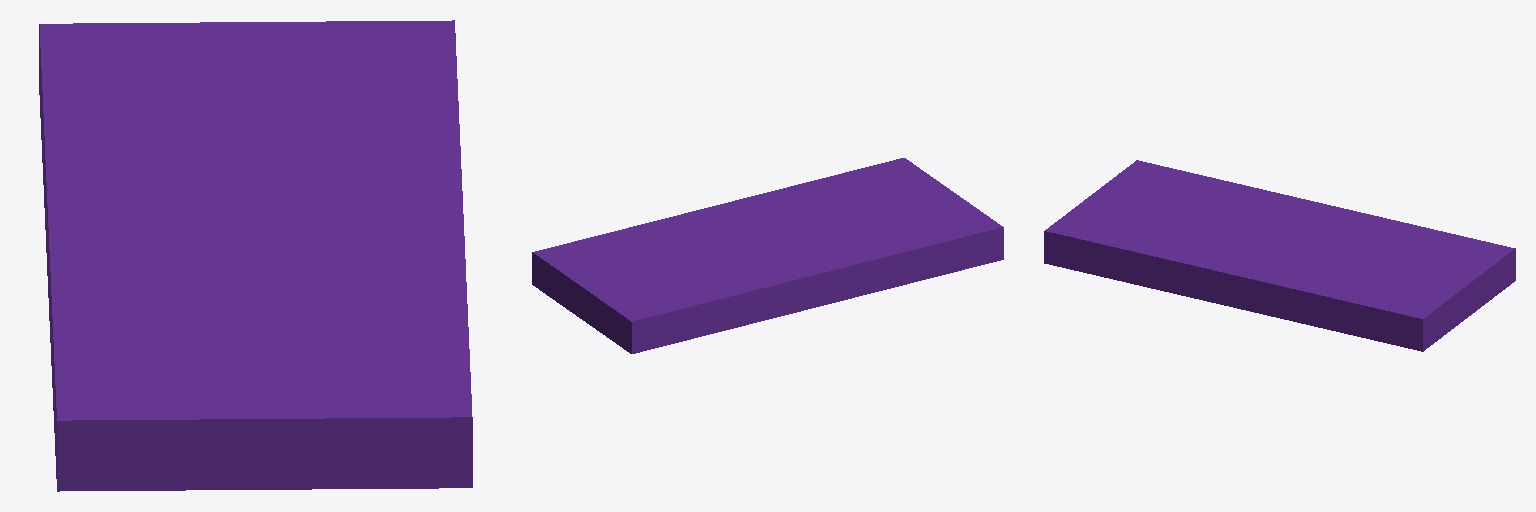
The robot description file, URDF, robot "Interference":
<?xml version="1.0"?>
<robot name="Interference">
  <link name="baseLink">
    <inertial>
      <origin xyz="0.0 0.0 0.0" rpy="0.0 0.0 0.0"/>
      <inertia ixx="0.0" ixy="0.0" ixz="0.0" iyy="0.0" iyz="0.0" izz="0.0"/>
      <mass value="0"/>
    </inertial>
    <visual>
      <origin xyz="0.0 0.0 0.0" rpy="0.0 0.0 -0.5048669580607577"/>
      <geometry>
        <box size="0.053116272625501275 0.12005848506371149 0.01"/>
      </geometry>
      <material name="color">
        <color rgba="0.4507868493648223 0.2457239753616277 0.6389656246000621 1.0"/>
      </material>
    </visual>
  </link>
</robot>

--- Facts derived from the render (not from the file) ---
3 views of the same robot in one strip: view 1: azimuth 30°, elevation 25°; view 2: azimuth 150°, elevation 25°; view 3: azimuth 270°, elevation 25° (orthographic).
Model Interference with 1 links and 0 joints (none), rooted at baseLink, posed all joints at 0.
Links seen in each view (by area): view 1: baseLink; view 2: baseLink; view 3: baseLink.
Boxes of the visible links, bbox=[...] form: baseLink: bbox=[39, 20, 472, 491]; baseLink: bbox=[532, 158, 1003, 353]; baseLink: bbox=[1044, 160, 1515, 351].
Size in the robot's own frame: 0.1046 by 0.1308 by 0.01 metres.
Geometry: primitives only (box / cylinder / sphere), no mesh files.